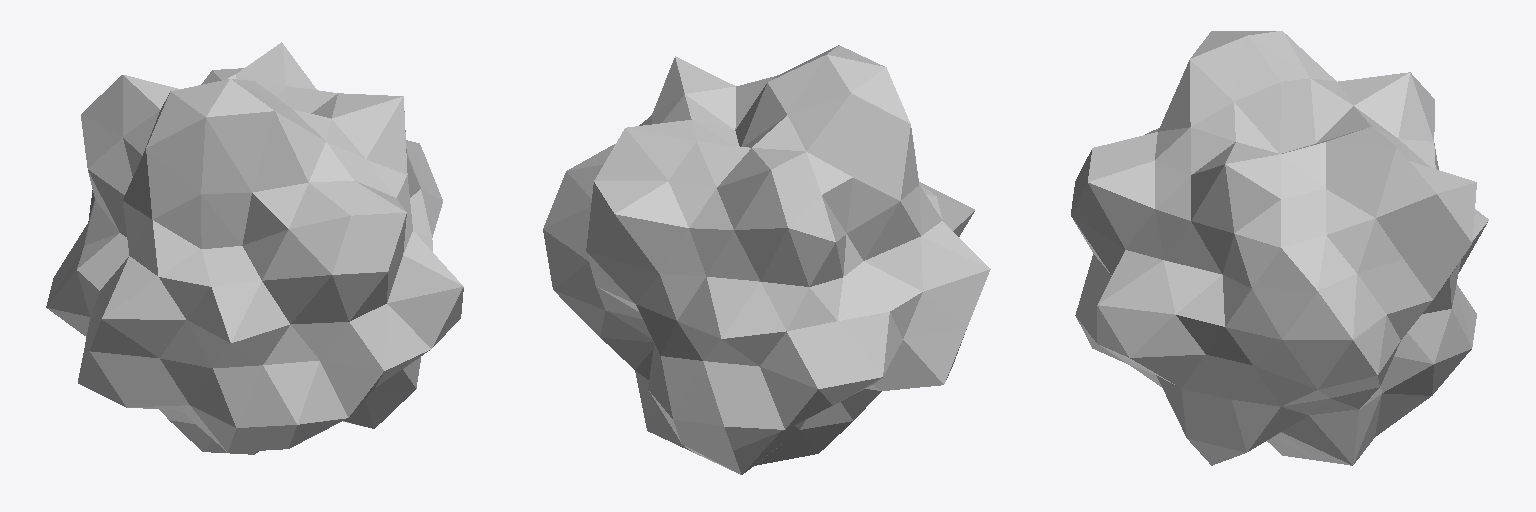
The model's file is Ore.obj.
3 renders of one model, left to right at view 1: azimuth 30°, elevation 25°; view 2: azimuth 150°, elevation 25°; view 3: azimuth 270°, elevation 25°, orthographic.
Parts seen in each view (by area): view 1: Icosphere; view 2: Icosphere; view 3: Icosphere.
Boxes of the visible parts, <box> form: Icosphere: <box>46,42,463,454</box>; Icosphere: <box>543,45,990,474</box>; Icosphere: <box>1071,31,1488,465</box>.
Size of the model in its own units: 2.64 by 2.67 by 2.54.